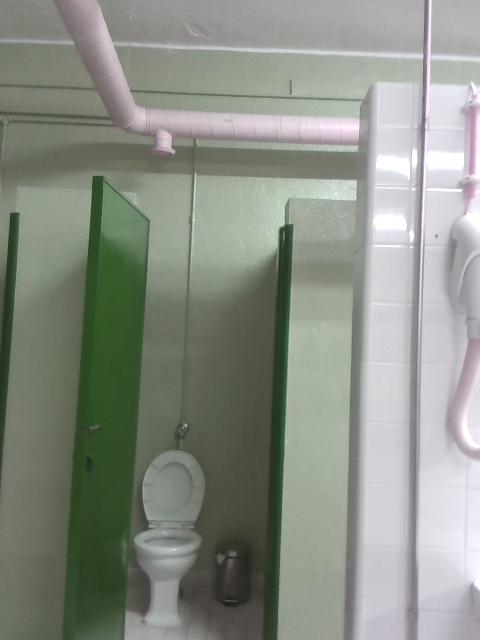open_door: (127, 191, 288, 639)
